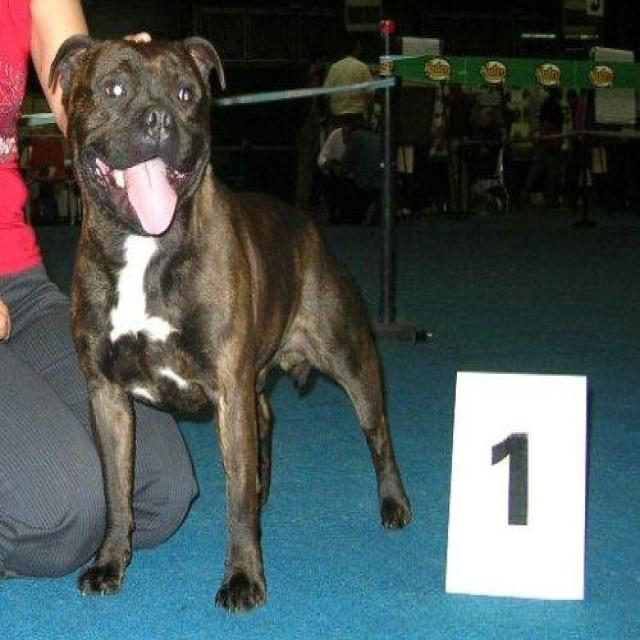staffordshire_bullterrier: (45, 32, 415, 615)
